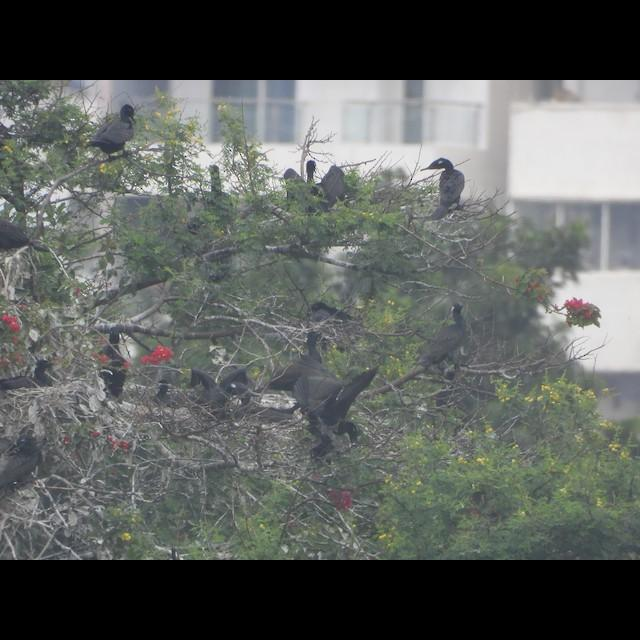cormorant: (412, 300, 472, 368), (82, 103, 140, 165), (418, 158, 468, 222)
